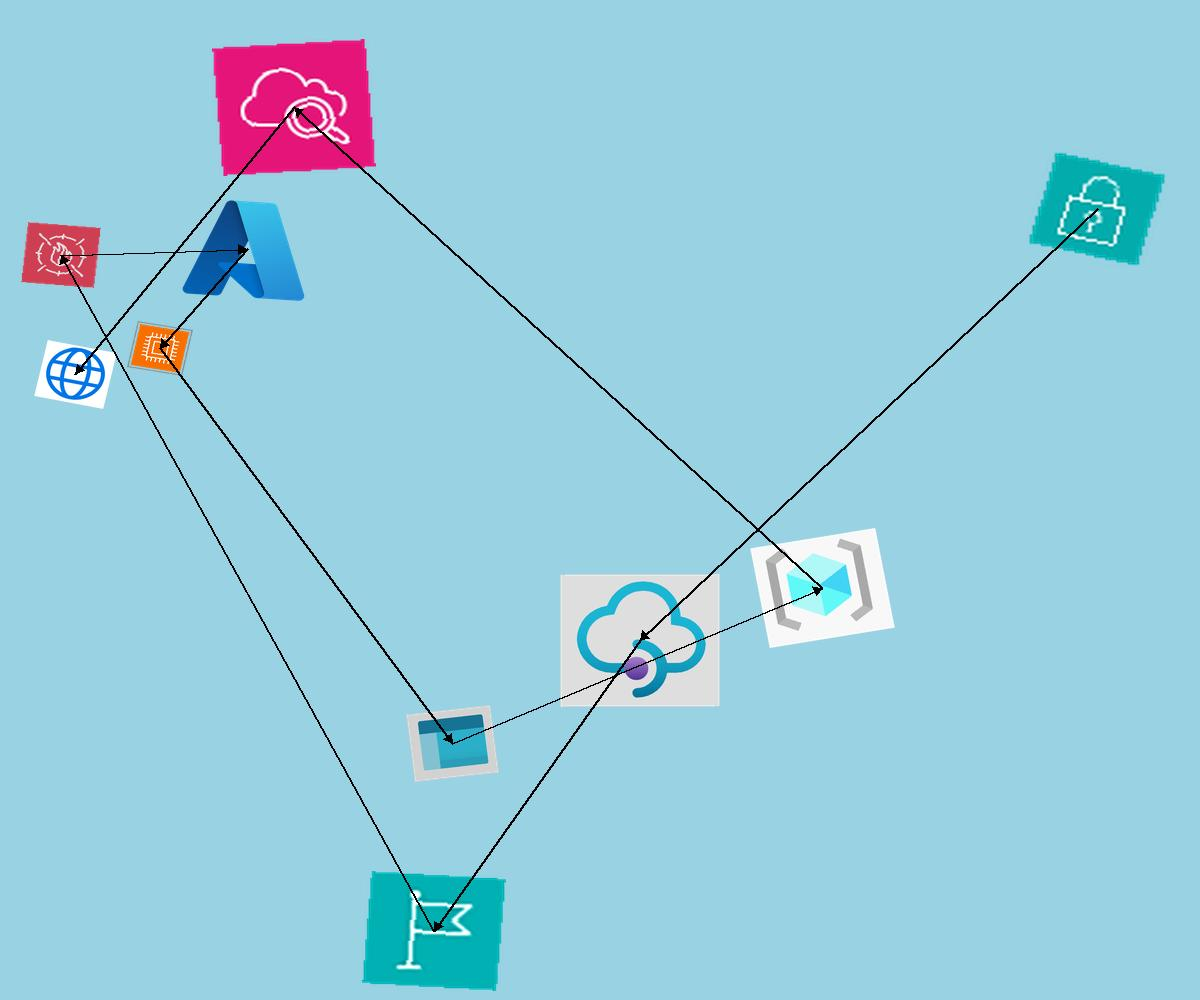AWS-Category_Compute: (127, 321, 193, 376)
AWS-CloudWatch: (212, 39, 376, 176)
AWS-Private-subnet: (1027, 151, 1167, 267)
AWS-Region: (362, 871, 506, 991)
AWS-WAF: (21, 222, 101, 288)
Azure_api_gateway: (560, 574, 720, 707)
Azure_http: (34, 340, 117, 409)
Azure_management-portal: (406, 705, 499, 782)
Azure_resource_group: (750, 528, 895, 648)
Azure_services: (176, 190, 319, 309)
